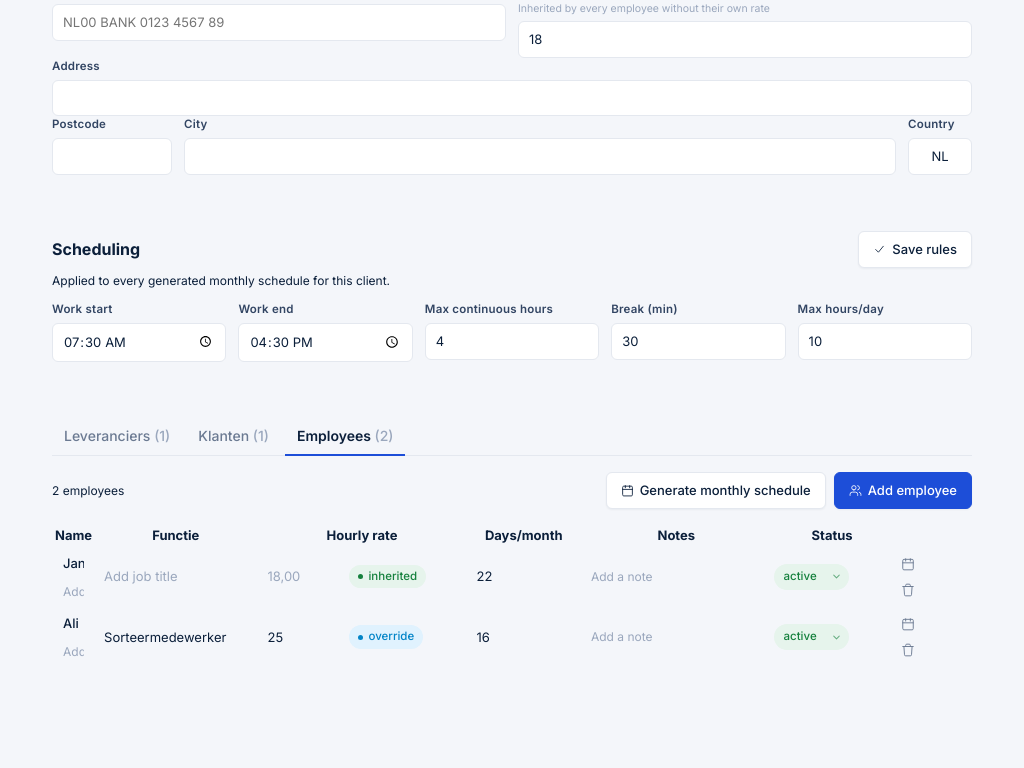
Test: client detail — inline employee editing › clearing the rate sends null and flips the badge back to inherited
This screenshot has width=1024, height=768.
(page scrolled)
Clear the number field named "Hourly rate of Ali". click: (300, 637)
box: [260, 623, 342, 651]
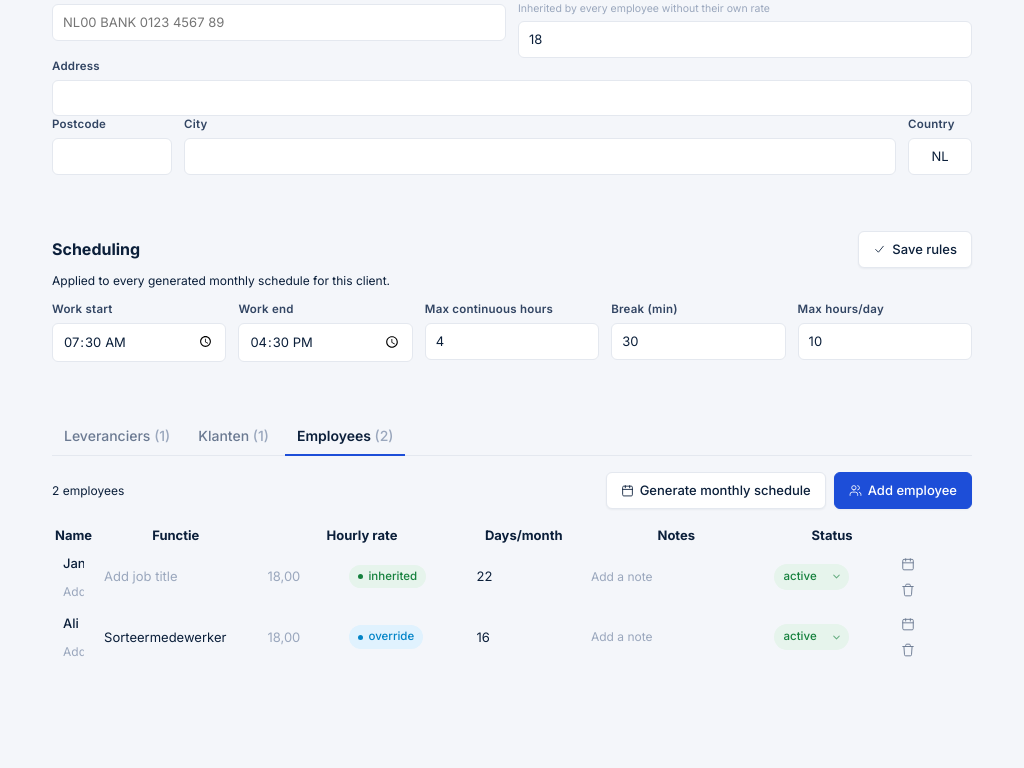
Leave the number field named "Hourly rate of Ali", box [260, 623, 342, 651]
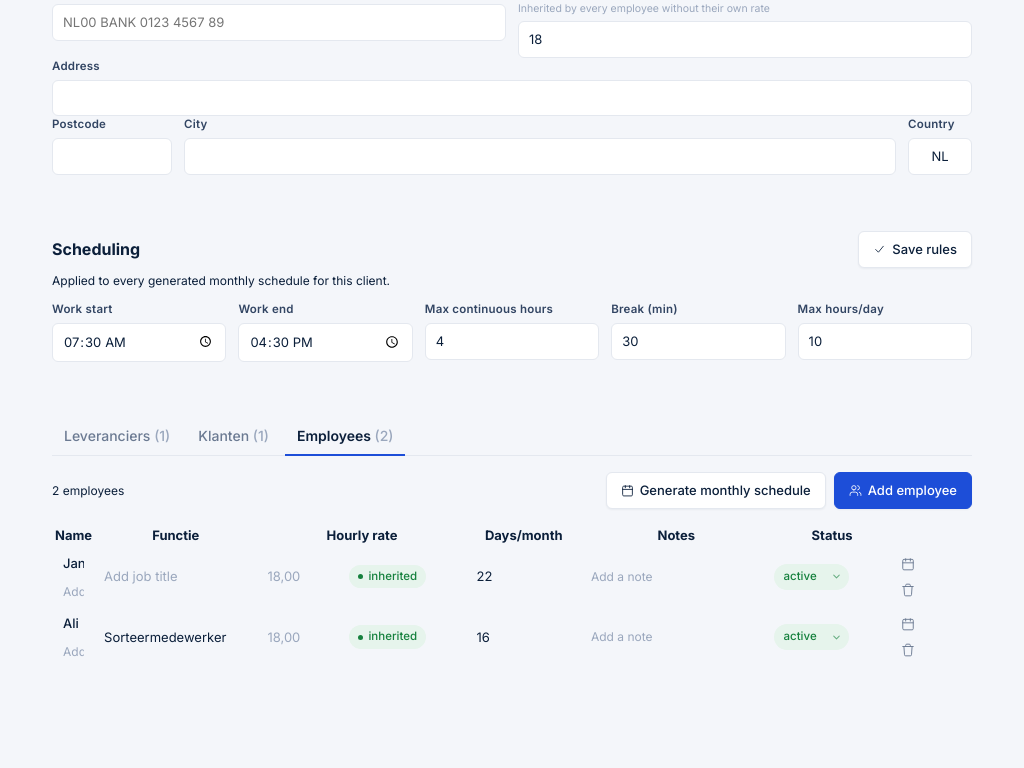
Expected: the text "inherited" is shown 2 times, [350, 565, 426, 588]; [350, 625, 426, 649]
Expected: the text "override" is gone
